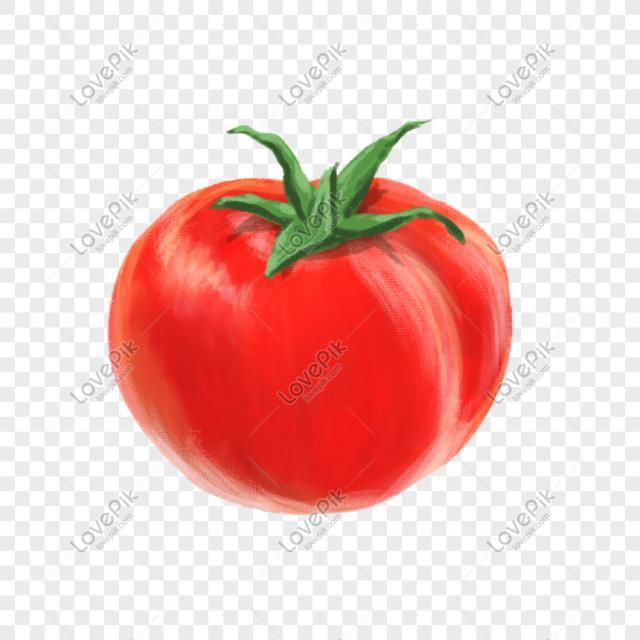kirmizi: (92, 108, 504, 528)
